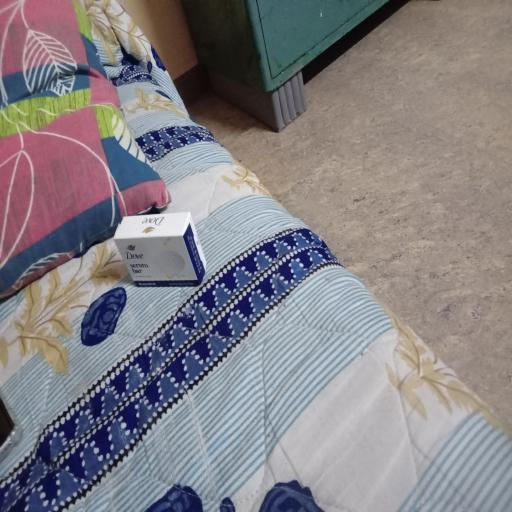Dove`1: (115, 209, 207, 298)
